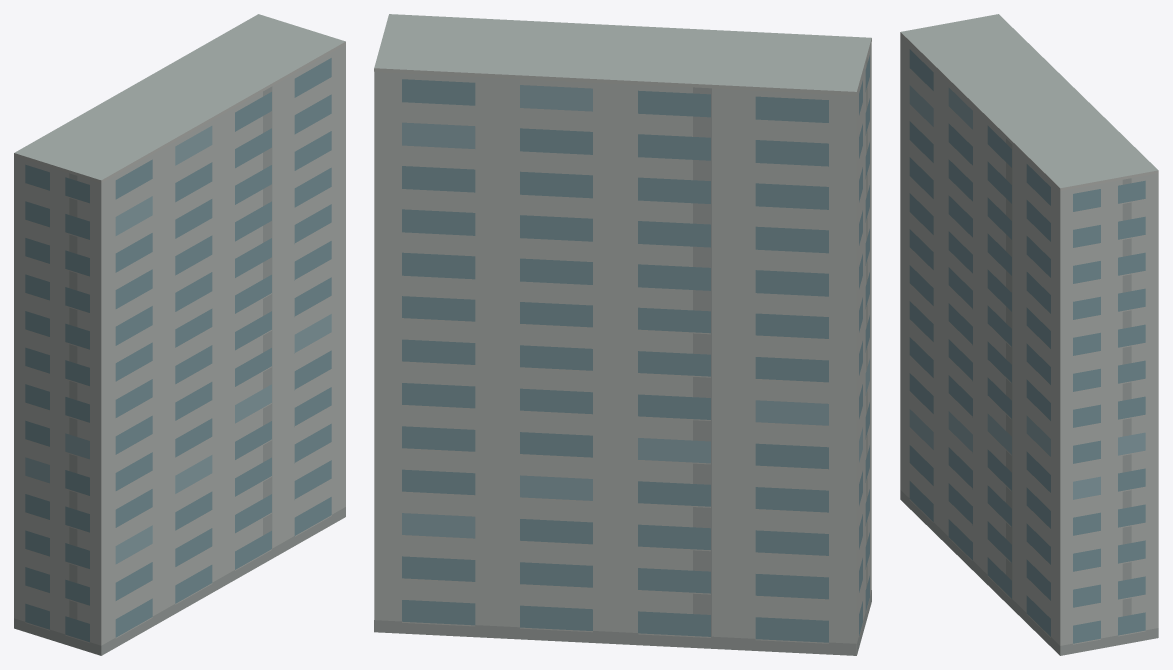
The model's file is residential-95ba8a7e-e465-4c90-b275-5c1ad84041db.glb.
The picture shows the model from 3 angles, left to right: view 1: azimuth 30°, elevation 25°; view 2: azimuth 150°, elevation 25°; view 3: azimuth 270°, elevation 25°; orthographic projection. The views are drawn at different scales.
Visible parts, largest first — view 1: residential-95ba8a7e-e465-4c90-b275-5c1ad84041db.tmp; view 2: residential-95ba8a7e-e465-4c90-b275-5c1ad84041db.tmp; view 3: residential-95ba8a7e-e465-4c90-b275-5c1ad84041db.tmp.
Boxes of the visible parts, x1,y1,x2,y2 form: residential-95ba8a7e-e465-4c90-b275-5c1ad84041db.tmp: [14, 14, 345, 655]; residential-95ba8a7e-e465-4c90-b275-5c1ad84041db.tmp: [374, 14, 871, 655]; residential-95ba8a7e-e465-4c90-b275-5c1ad84041db.tmp: [900, 14, 1158, 655].
Bounding box in the file's own units: 31.17 × 39 × 19.51.
